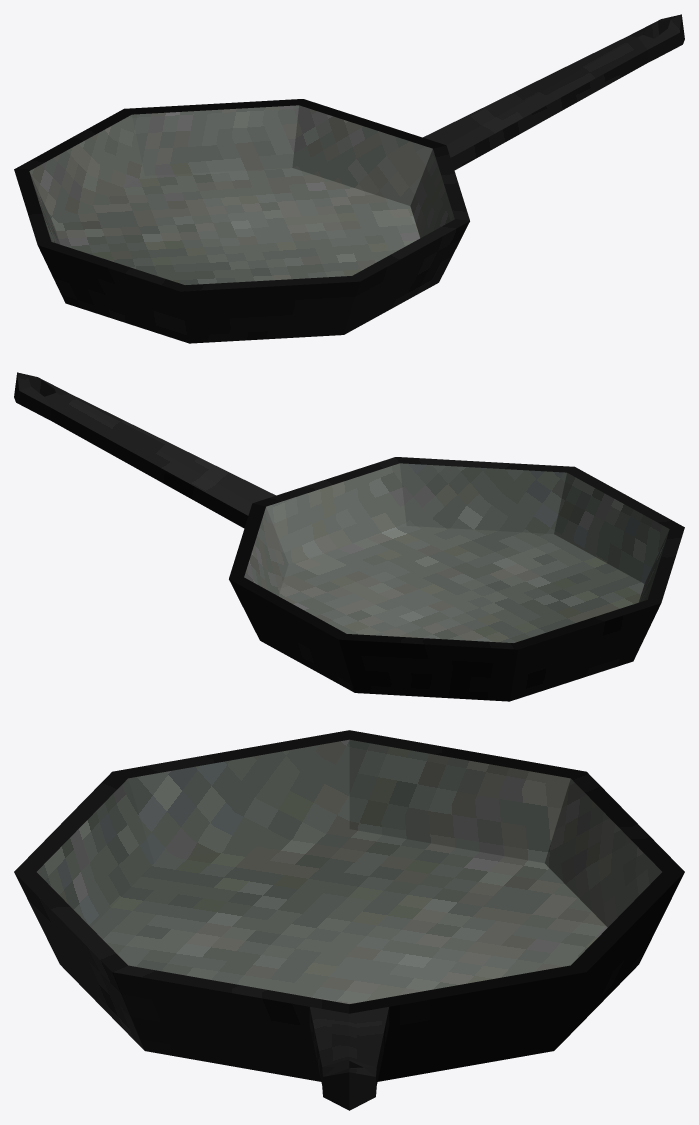
Rendered from pan.glb.
3 renders of one model, top to bottom at view 1: azimuth 30°, elevation 25°; view 2: azimuth 150°, elevation 25°; view 3: azimuth 270°, elevation 25°, orthographic. The views are drawn at different scales.
Visible parts, largest first — view 1: pan; view 2: pan; view 3: pan.
Part boxes in pixels (bbox=[...]): pan: bbox=[14, 14, 684, 343]; pan: bbox=[14, 372, 684, 701]; pan: bbox=[14, 730, 684, 1110].
Size of the model in its own units: 0.5656 by 0.1158 by 0.3573.
1 material, 1 textured.
